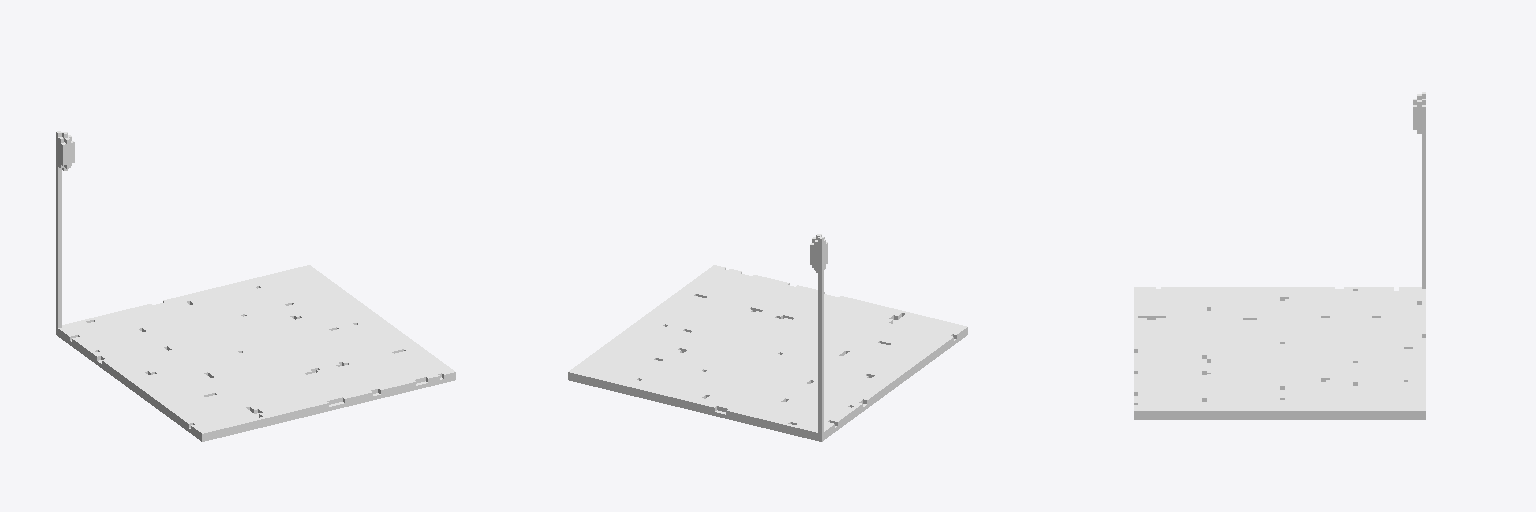
Rendered from Tutorialmap_V2_unfinished-32.obj.
3 views of the same model, side by side, from view 1: azimuth 30°, elevation 25°; view 2: azimuth 150°, elevation 25°; view 3: azimuth 270°, elevation 25° (orthographic).
Parts seen in each view (by area): view 1: object 1; view 2: object 1; view 3: object 1.
Boxes of the visible parts, box(x1,y1,x2,y2) form: object 1: box(56, 131, 455, 441); object 1: box(568, 234, 967, 441); object 1: box(1134, 92, 1425, 419).
Bounding box in the file's own units: 6.4 × 4.9 × 6.4.